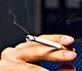smoke: (26, 34, 75, 52)
